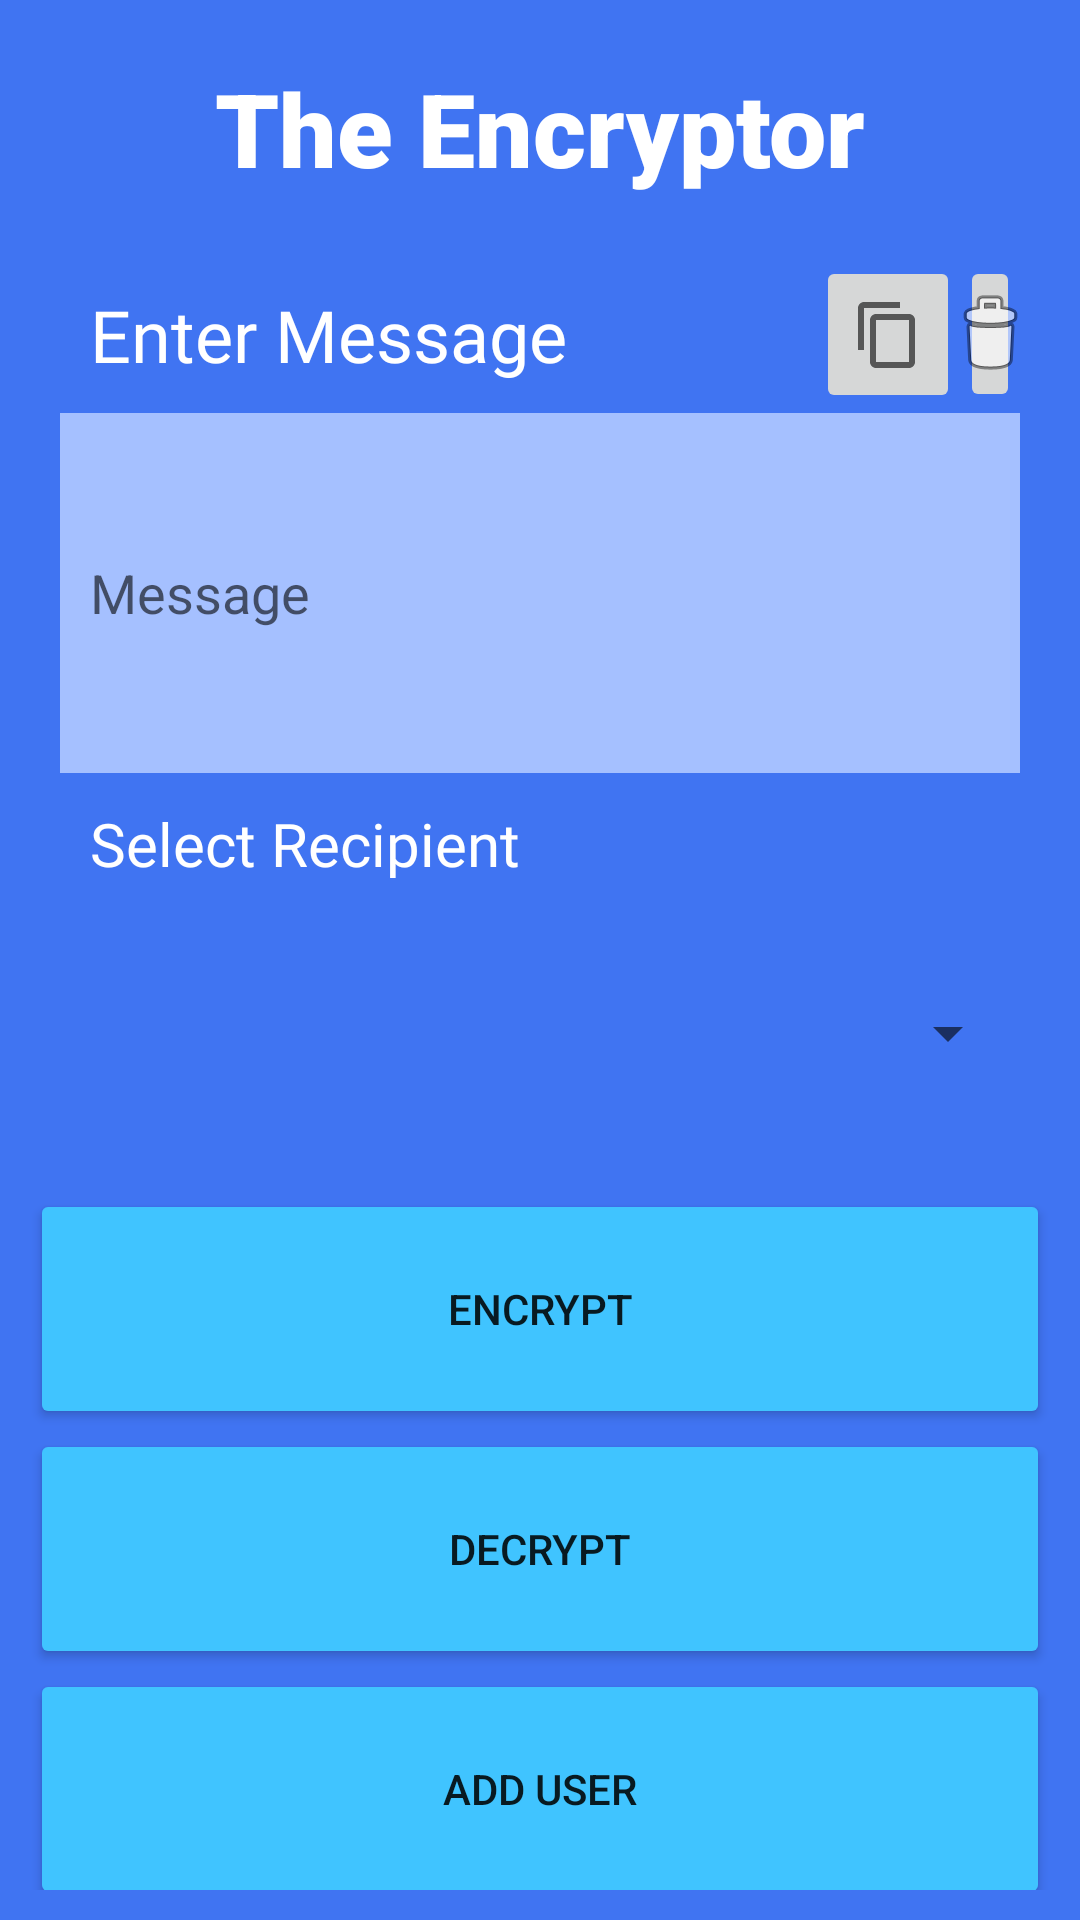

Where to tap for icons on this 1080w x 1920h app screen, as (x=x, y=y):
delete: (x=990, y=334)
